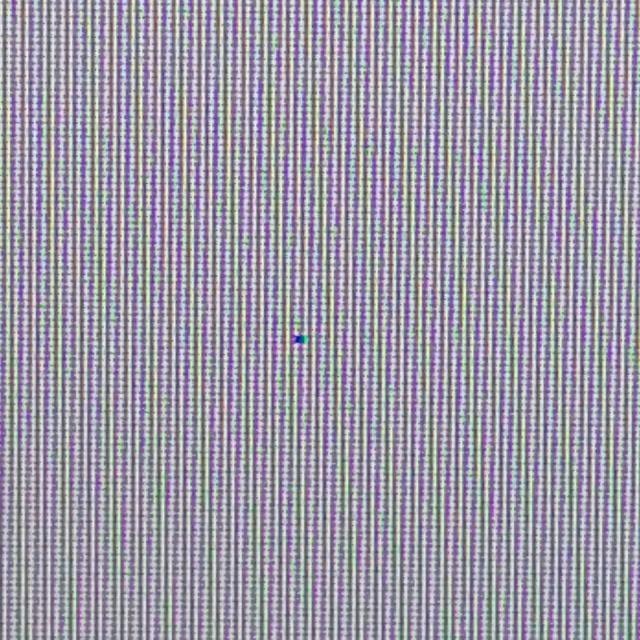Dead pixel: (295, 335, 307, 343)
